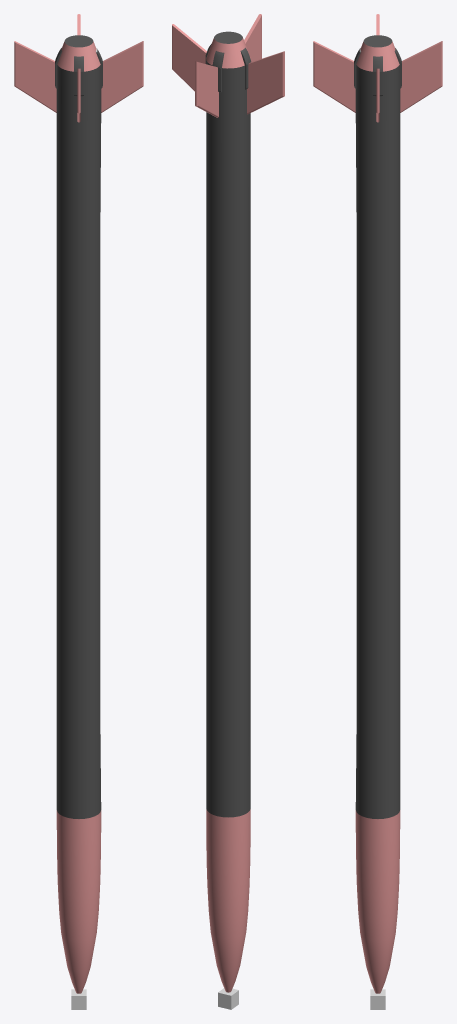
File: misile.glb
3 renders of one model, left to right at view 1: azimuth 90°, elevation 25°; view 2: azimuth 150°, elevation 25°; view 3: azimuth 270°, elevation 25°, orthographic.
Parts seen in each view (by area): view 1: misil; view 2: misil, Cube; view 3: misil.
Boxes of the visible parts, <box> form: misil: <box>14,14,143,993</box>; misil: <box>172,14,284,992</box>; Cube: <box>218,988,238,1009</box>; misil: <box>313,14,442,993</box>.
Size of the model in its own units: 16.65 by 137 by 16.65.
